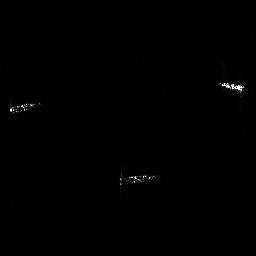ship: (116, 171, 162, 190), (214, 78, 248, 96), (6, 101, 43, 115)
